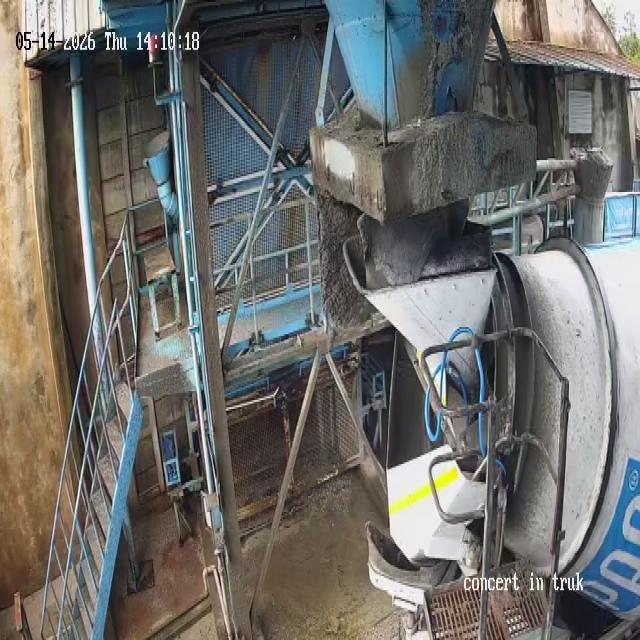cement_mixer_truck: (334, 235, 640, 640)
